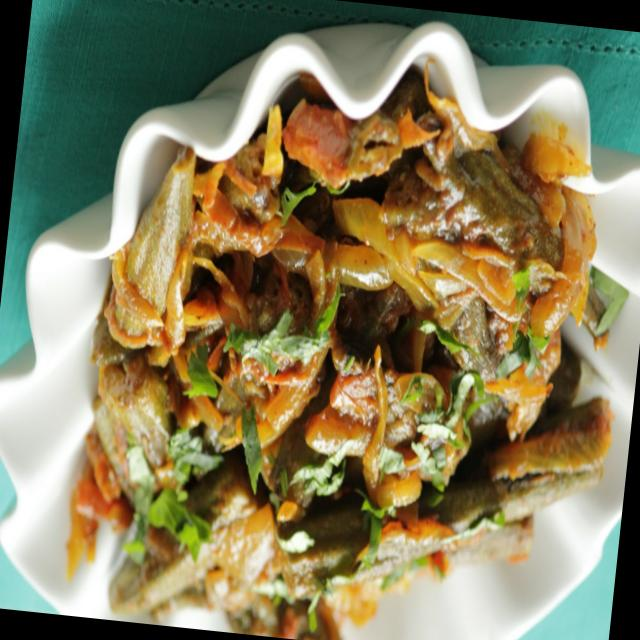BhindiMasala: (57, 28, 640, 640)
